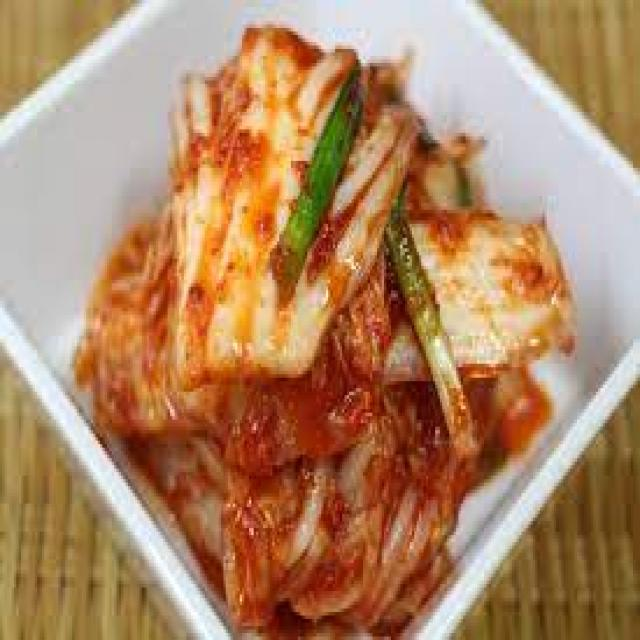kimchi: (98, 48, 468, 530)
